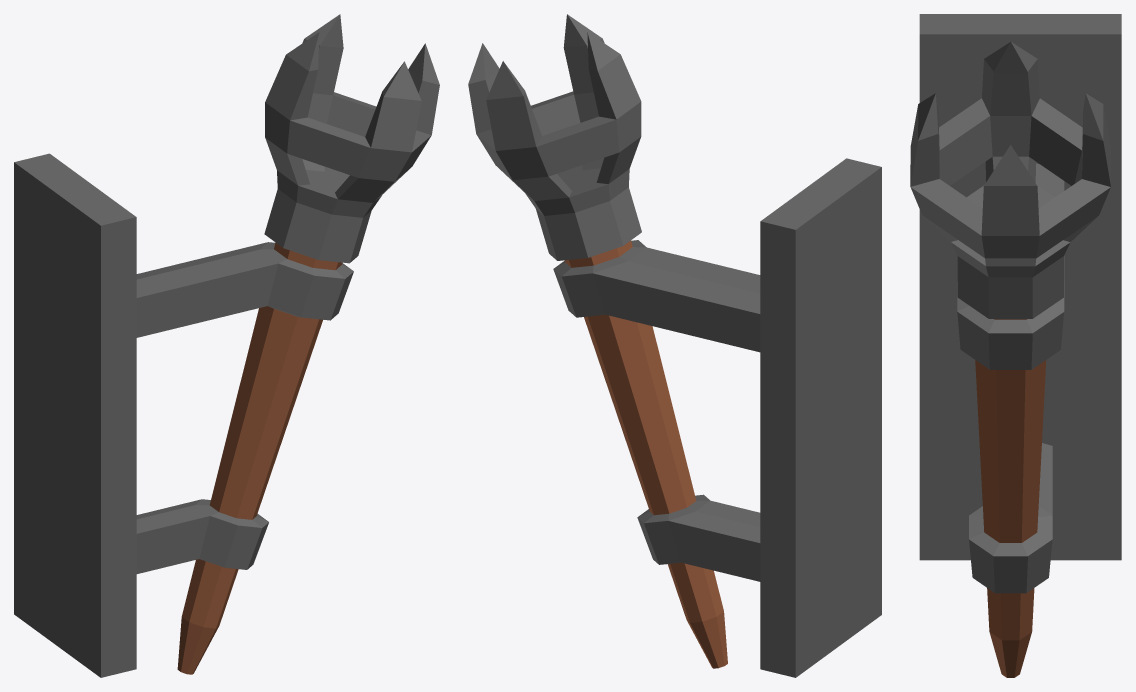
File: torch-holder.fbx
The picture shows the model from 3 angles, left to right: view 1: azimuth 30°, elevation 25°; view 2: azimuth 150°, elevation 25°; view 3: azimuth 270°, elevation 25°; orthographic projection. The views are drawn at different scales.
Parts seen in each view (by area): view 1: Torch; view 2: Torch; view 3: Torch.
Part boxes in pixels (x1,y1,x2,y2): Torch: [14, 14, 439, 677]; Torch: [468, 14, 881, 677]; Torch: [910, 14, 1121, 677].
Bounding box in the file's own units: 110 × 174 × 47.04.
